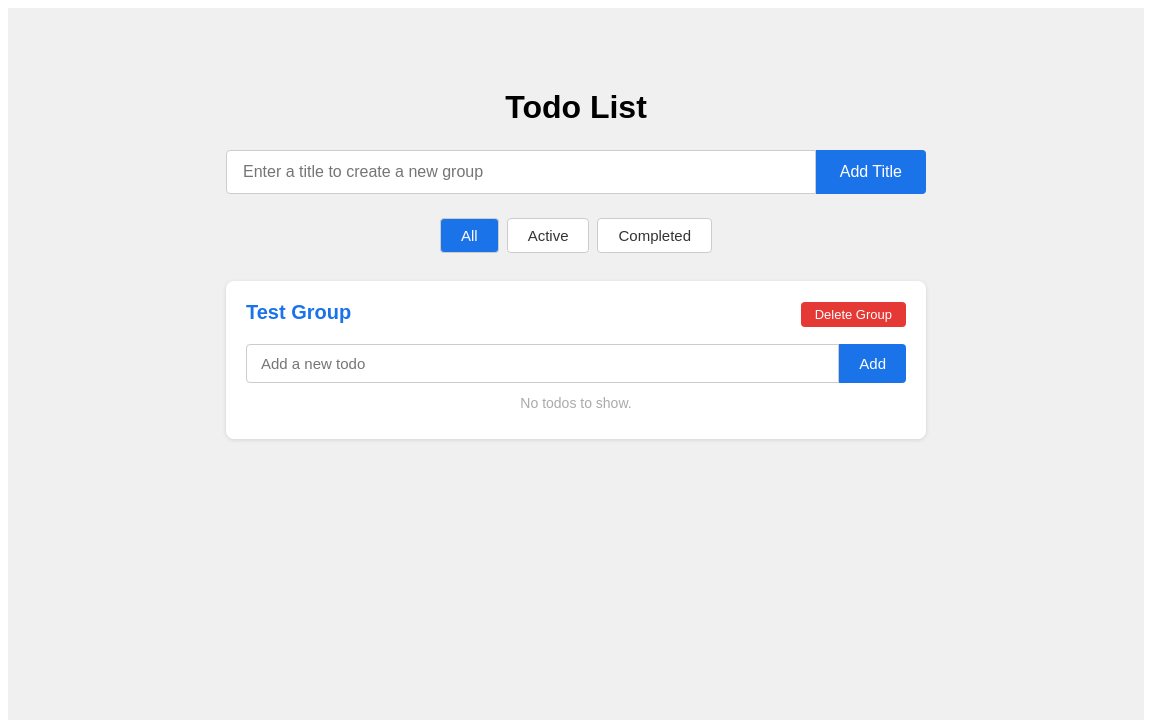
Test: Group operations › deletes a group and removes it from the list
The image size is (1152, 720).
Expected: the heading "Test Group" is shown, [246,301,351,324]
Step 1. Click the button with test id "delete-group-btn" → (853, 315), box [801,302,906,327]
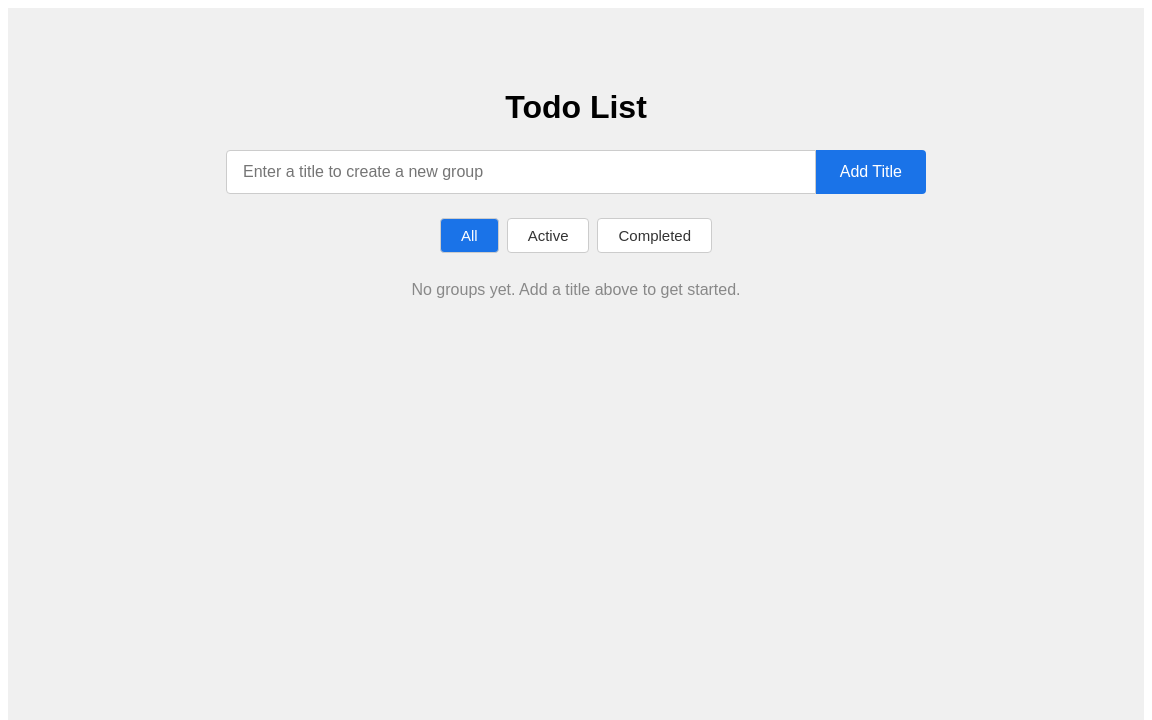
Now the heading "Test Group" is gone
